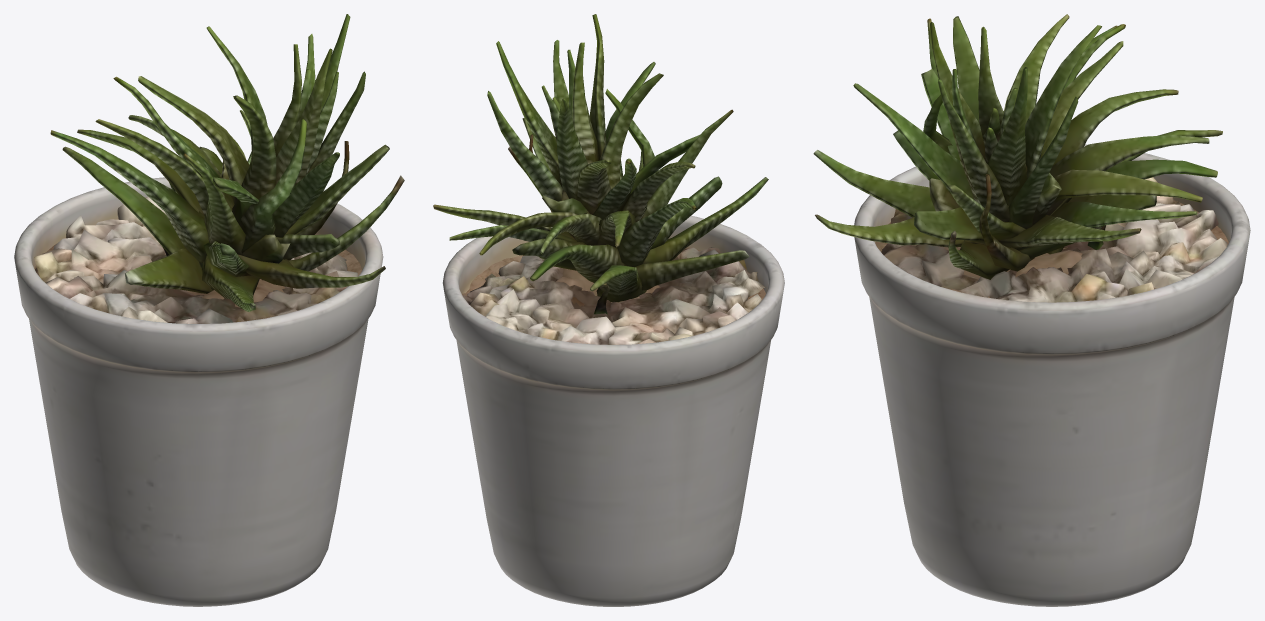
Rendered from sukkulente.glb.
3 renders of one model, left to right at view 1: azimuth 30°, elevation 25°; view 2: azimuth 150°, elevation 25°; view 3: azimuth 270°, elevation 25°, orthographic. The views are drawn at different scales.
Parts seen in each view (by area): view 1: potted_plant_04_ground; view 2: potted_plant_04_ground; view 3: potted_plant_04_ground.
Boxes of the visible parts, <box> form: potted_plant_04_ground: <box>14,14,404,606</box>; potted_plant_04_ground: <box>433,14,784,606</box>; potted_plant_04_ground: <box>813,14,1250,606</box>.
Size of the model in its own units: 0.1679 by 0.2675 by 0.1847.
Materials: 1 (1 with a texture image).
